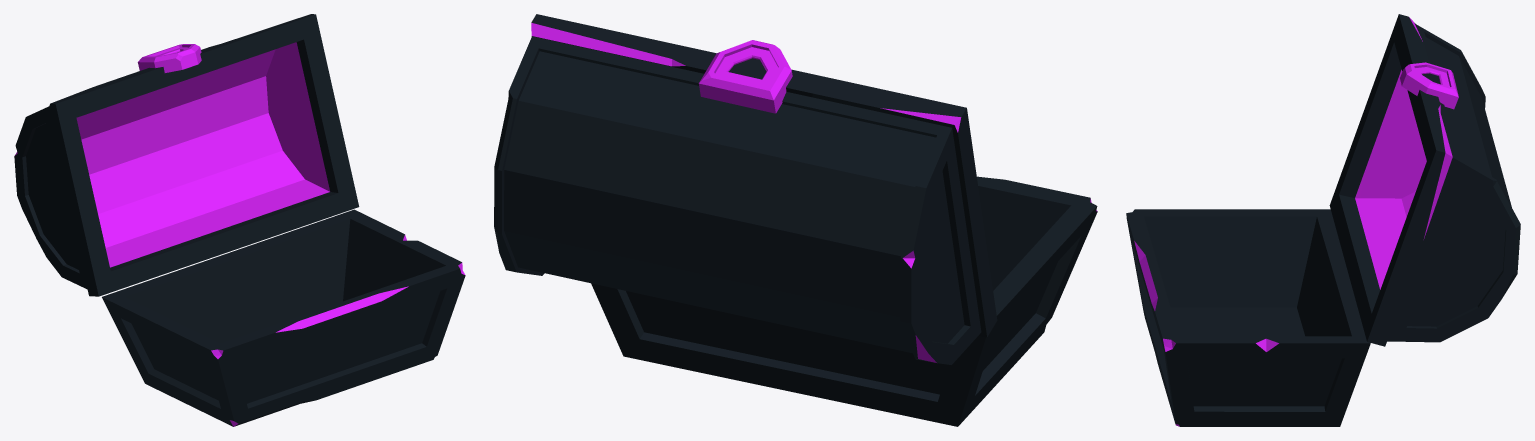
File: open_chest.glb
The picture shows the model from 3 angles, left to right: view 1: azimuth 30°, elevation 25°; view 2: azimuth 150°, elevation 25°; view 3: azimuth 270°, elevation 25°; orthographic projection. The views are drawn at different scales.
Parts seen in each view (by area): view 1: Plane.002; view 2: Plane.002; view 3: Plane.002.
Part boxes in pixels (x1,y1,x2,y2): Plane.002: (14,14,465,426); Plane.002: (494,14,1097,426); Plane.002: (1126,14,1520,426).
Bounding box in the file's own units: 4.91 × 4.26 × 5.09.
1 material, 1 textured.
